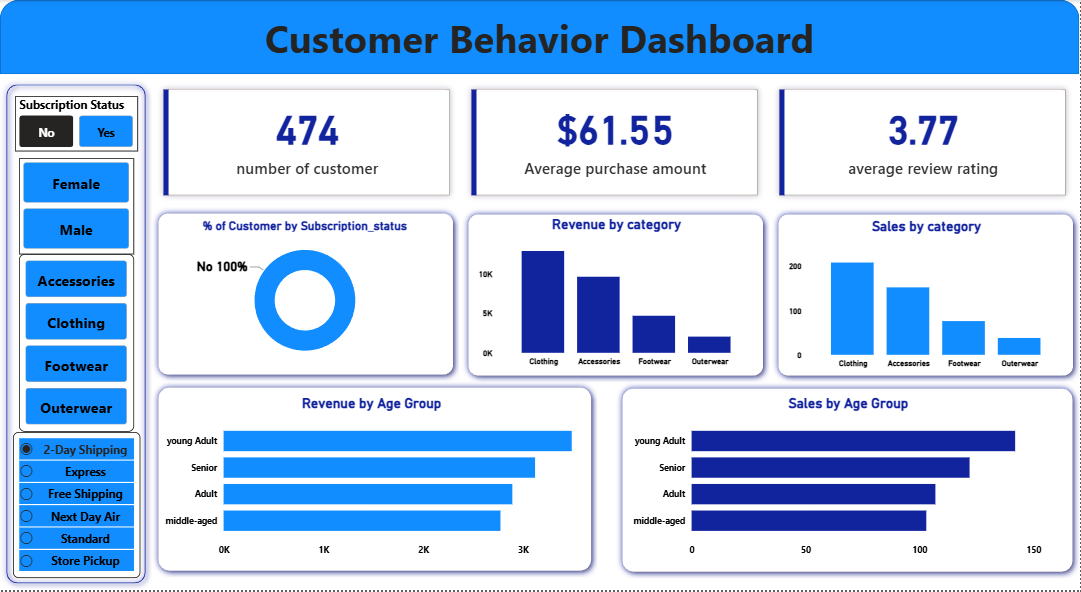

What the dashboard file says about the page in this screenshot:
{"tool":"powerbi","page":{"name":"Page 1","canvas":[1500,820],"ordinal":0},"visuals":[{"type":"cardVisual","fields":{"Data":["public customer.number of customer","public customer.Average purchase amount","public customer.average review rating"]},"box":[211.3,108.1,1288.7,179],"z":0},{"type":"shape","box":[0,0,1500,103.2],"z":1000},{"type":"textbox","box":[0,11.3,1500,85.5],"z":2000},{"type":"shape","box":[211.3,287.1,427.4,241.9],"z":3000},{"type":"donutChart","title":"%  of Customer by Subscription_status","fields":{"Category":["public customer.subscription_status"],"Y":["CountNonNull(public customer.customer_id)"]},"box":[224.2,303.2,400,209.7],"z":4000},{"type":"shape","box":[641.9,288.7,427.4,241.9],"z":5000},{"type":"shape","box":[1072.6,288.7,427.4,241.9],"z":6000},{"type":"clusteredColumnChart","title":"Revenue by category","fields":{"Category":["public customer.category"],"Y":["Sum(public customer.purchase_amount)"]},"box":[659.7,300,393.5,216.1],"z":7000},{"type":"clusteredColumnChart","title":"Sales by category","fields":{"Category":["public customer.category"],"Y":["CountNonNull(public customer.purchase_amount)"]},"box":[1090.3,303.2,393.5,216.1],"z":8000},{"type":"shape","box":[0,108.1,211.3,711.3],"z":9000},{"type":"advancedSlicerVisual","fields":{"Values":["public customer.subscription_status"]},"box":[21,133.9,171,77.4],"z":10000},{"type":"advancedSlicerVisual","fields":{"Values":["public customer.gender"]},"box":[25.8,219.4,159.7,133.9],"z":11000},{"type":"listSlicer","fields":{"Values":["public customer.shipping_type"]},"box":[17.7,600,177.4,203.2],"z":12000},{"type":"advancedSlicerVisual","fields":{"Values":["public customer.category"]},"box":[25.8,353.2,159.7,222.6],"z":13000},{"type":"shape","box":[856.5,530.6,643.5,272.6],"z":14000},{"type":"clusteredBarChart","title":"Sales by Age Group","fields":{"Y":["CountNonNull(public customer.customer_id)"],"Category":["public customer.age_group"]},"box":[874.2,548.4,609.7,233.9],"z":15000},{"type":"shape","box":[211.3,529,619.4,272.6],"z":16000},{"type":"clusteredBarChart","title":"Revenue by Age Group","fields":{"Y":["Sum(public customer.previous_purchases)"],"Category":["public customer.age_group"]},"box":[224.2,548.4,585.5,233.9],"z":17000}]}

Visuals, with their boxes in screenshot pixels (x1, y1, x2, y2), scaled from the page's 1500x820 canvas onto the 1081x592 screenshot:
cardVisual - public customer.number of customer x public customer.Average purchase amount: l=152, t=78, r=1080, b=207
shape: l=0, t=0, r=1080, b=75
textbox: l=0, t=8, r=1080, b=70
shape: l=152, t=207, r=460, b=382
"%  of Customer by Subscription_status" donutChart: l=162, t=219, r=450, b=370
shape: l=463, t=208, r=771, b=383
shape: l=773, t=208, r=1080, b=383
"Revenue by category" clusteredColumnChart: l=475, t=217, r=759, b=373
"Sales by category" clusteredColumnChart: l=786, t=219, r=1069, b=375
shape: l=0, t=78, r=152, b=591
advancedSlicerVisual - public customer.subscription_status: l=15, t=97, r=138, b=153
advancedSlicerVisual - public customer.gender: l=19, t=158, r=134, b=255
listSlicer - public customer.shipping_type: l=13, t=433, r=141, b=580
advancedSlicerVisual - public customer.category: l=19, t=255, r=134, b=416
shape: l=617, t=383, r=1080, b=580
"Sales by Age Group" clusteredBarChart: l=630, t=396, r=1069, b=565
shape: l=152, t=382, r=599, b=579
"Revenue by Age Group" clusteredBarChart: l=162, t=396, r=584, b=565
